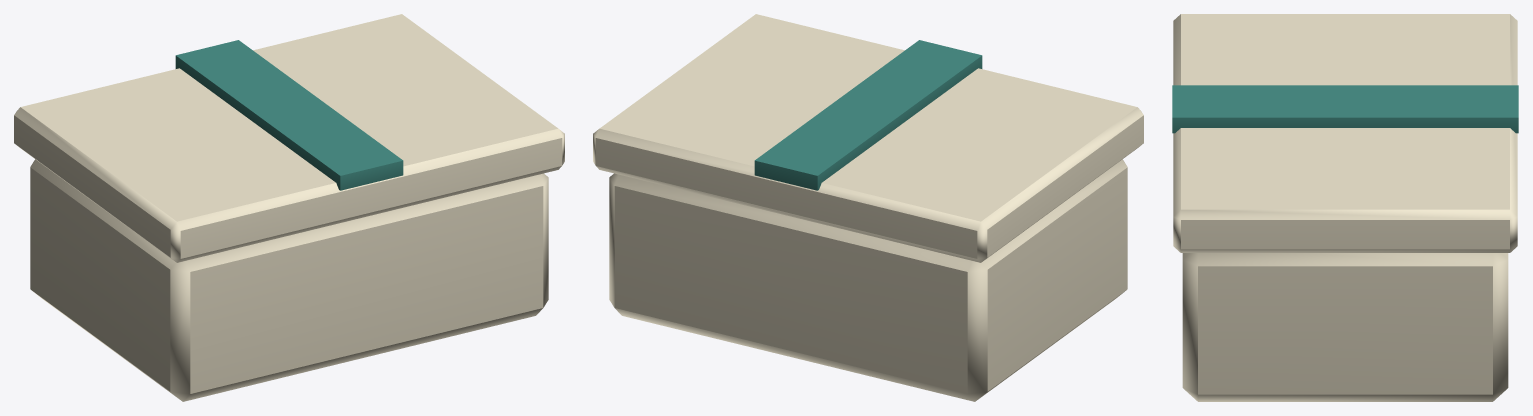
Rendered from item_mealbox.glb.
3 renders of one model, left to right at view 1: azimuth 30°, elevation 25°; view 2: azimuth 150°, elevation 25°; view 3: azimuth 270°, elevation 25°, orthographic. The views are drawn at different scales.
Parts seen in each view (by area): view 1: item_mealbox; view 2: item_mealbox; view 3: item_mealbox.
Boxes of the visible parts, x1,y1,x2,y2 form: item_mealbox: (14, 14, 564, 401); item_mealbox: (593, 14, 1143, 401); item_mealbox: (1172, 14, 1518, 401).
Size of the model in its own units: 0.25 by 0.121 by 0.181.
